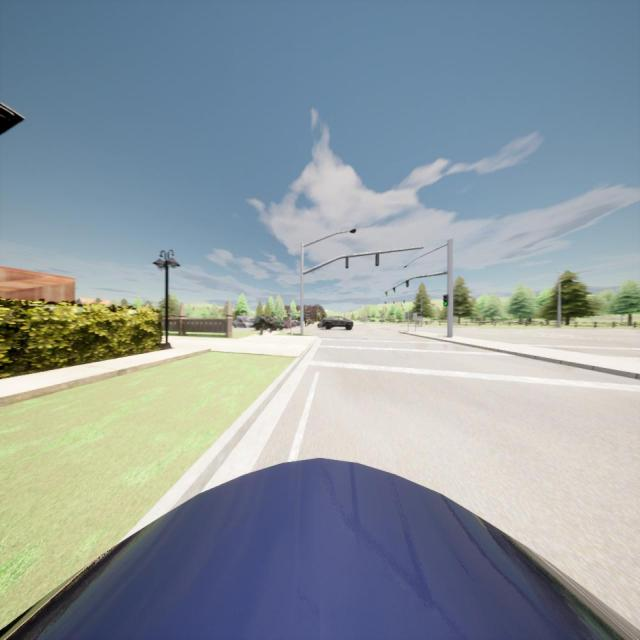Pedestrian: (260, 314, 266, 335), (287, 314, 292, 334), (270, 314, 274, 332)
Traffic_Signs: (413, 312, 418, 318)
Vehicle: (1, 458, 640, 640), (317, 316, 354, 331), (254, 315, 284, 331), (232, 318, 253, 328)
traffic_light: (443, 294, 448, 306), (375, 254, 379, 266), (405, 280, 409, 288), (346, 256, 348, 268), (385, 291, 388, 297), (393, 287, 395, 293)
